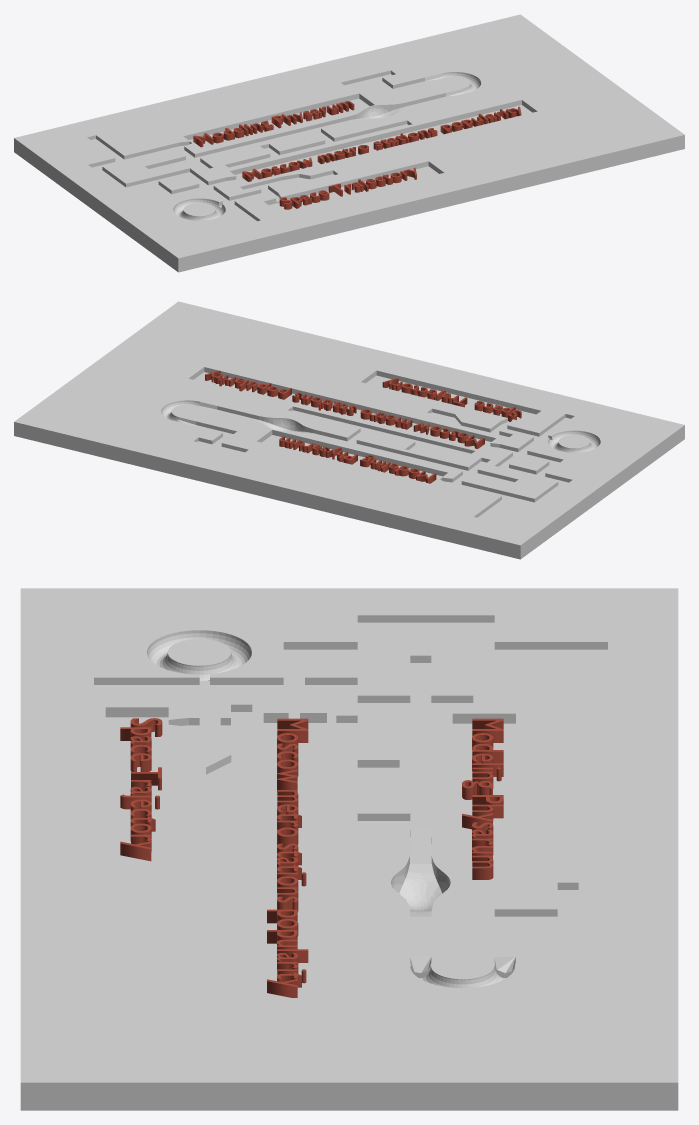
Rendered from water_maze.glb.
3 renders of one model, top to bottom at view 1: azimuth 30°, elevation 25°; view 2: azimuth 150°, elevation 25°; view 3: azimuth 270°, elevation 25°, orthographic. The views are drawn at different scales.
Parts seen in each view (by area): view 1: Cube.001, Text.001, Text, Text.002; view 2: Cube.001, Text.001, Text, Text.002; view 3: Cube.001, Text.001, Text, Text.002.
Part boxes in pixels (x1,y1,x2,y2): Cube.001: [14, 14, 684, 272]; Text.001: [242, 106, 521, 181]; Text: [193, 101, 354, 147]; Text.002: [279, 167, 416, 209]; Cube.001: [14, 301, 684, 559]; Text.001: [205, 370, 484, 448]; Text: [279, 436, 436, 483]; Text.002: [382, 378, 521, 421]; Cube.001: [20, 588, 678, 1110]; Text.001: [267, 718, 308, 997]; Text: [462, 718, 503, 879]; Text.002: [120, 718, 162, 861].
Size of the model in its own units: 111 by 3.46 by 62.44.
